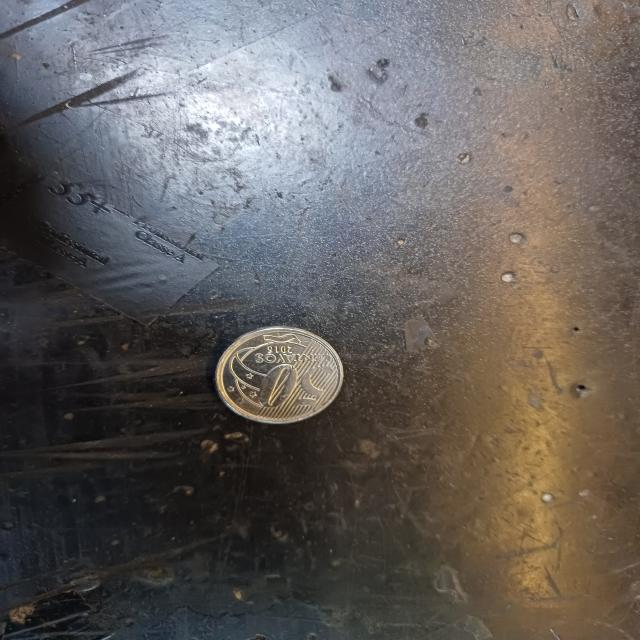50 cents: (212, 322, 349, 426)
